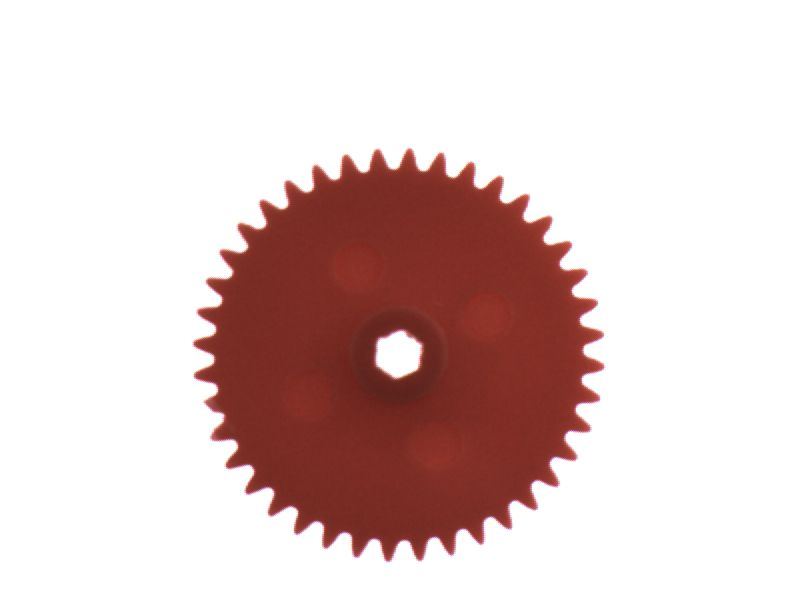defect_break: (178, 386, 233, 424)
